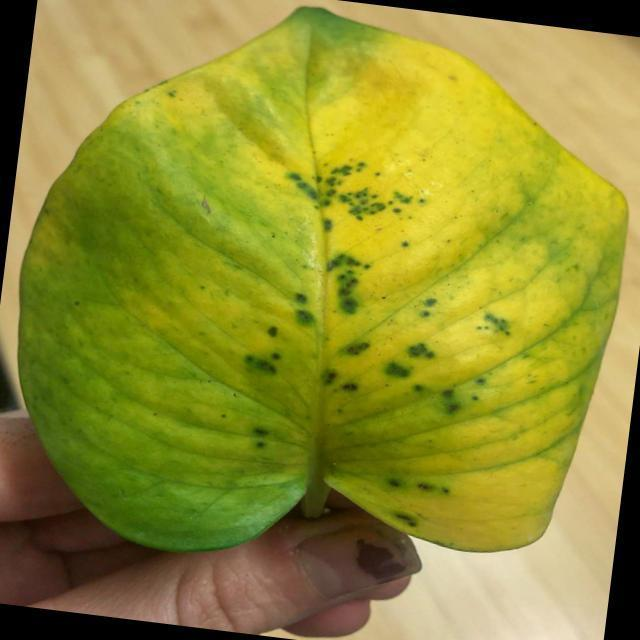Bacterial Spot: (139, 133, 532, 509)
